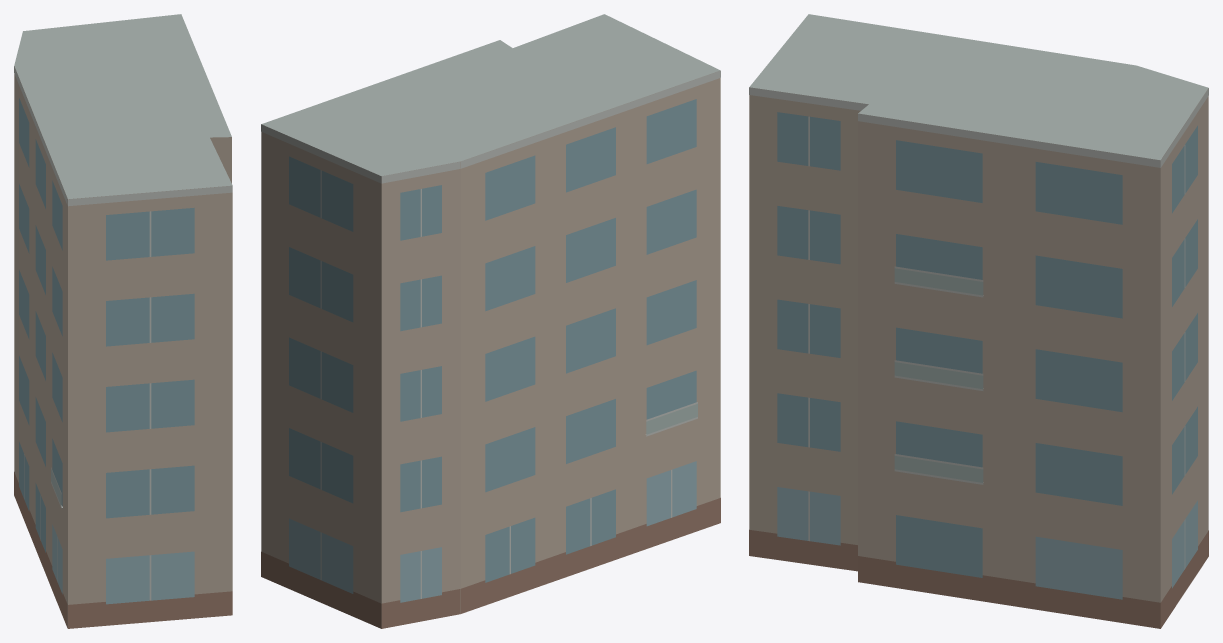
File: survey-upis-32473917.glb
The picture shows the model from 3 angles, left to right: view 1: azimuth 30°, elevation 25°; view 2: azimuth 150°, elevation 25°; view 3: azimuth 270°, elevation 25°; orthographic projection. The views are drawn at different scales.
Visible parts, largest first — view 1: survey-upis-32473917.tmp; view 2: survey-upis-32473917.tmp; view 3: survey-upis-32473917.tmp.
Boxes of the visible parts, bbox=[...] form: survey-upis-32473917.tmp: bbox=[14, 14, 232, 628]; survey-upis-32473917.tmp: bbox=[261, 14, 720, 628]; survey-upis-32473917.tmp: bbox=[749, 14, 1208, 628].
Size of the model in its own units: 9.98 by 14.9 by 13.26.
